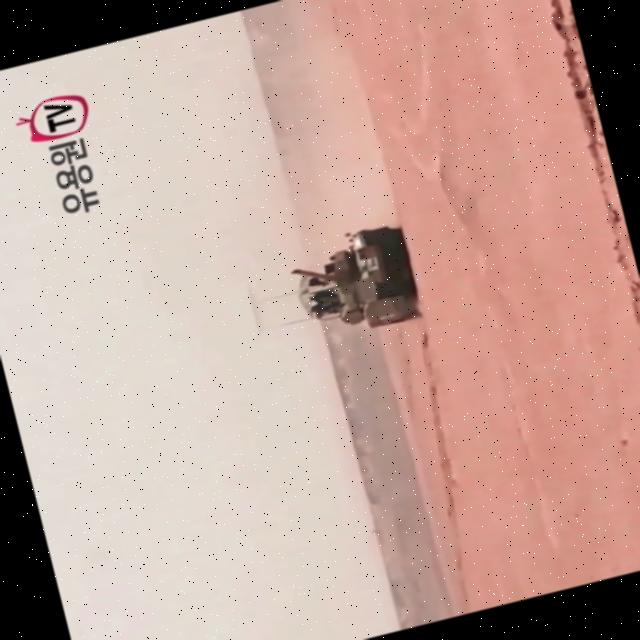korea tank: (280, 219, 423, 347)
